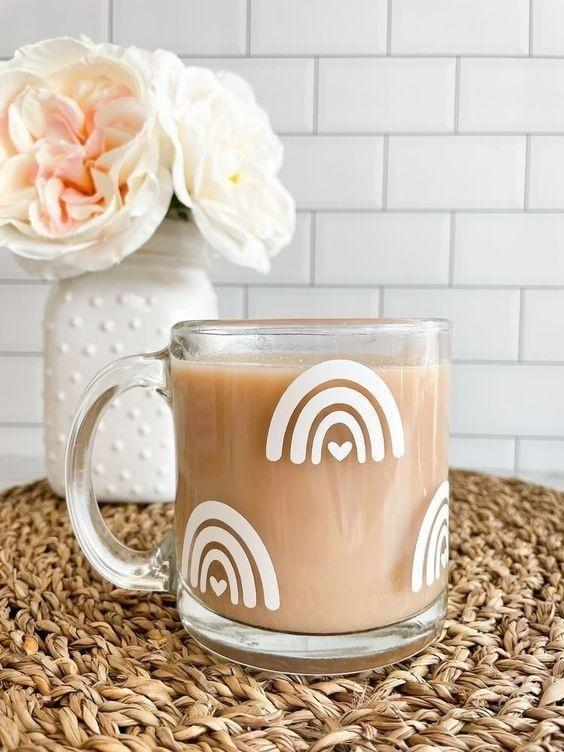glass-mug: (53, 309, 461, 685)
